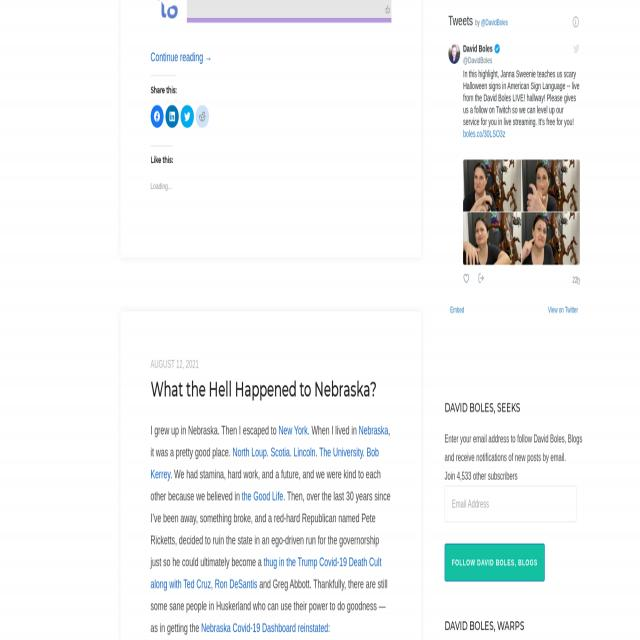button: (444, 543, 544, 581), (521, 212, 580, 265), (463, 212, 521, 265), (463, 160, 521, 212), (522, 160, 580, 212), (150, 105, 163, 129), (180, 105, 193, 129), (166, 105, 178, 129), (196, 105, 208, 129), (448, 42, 460, 64), (571, 40, 581, 56), (476, 272, 486, 286), (571, 15, 580, 29), (462, 271, 471, 285)
field: (445, 488, 576, 521)
